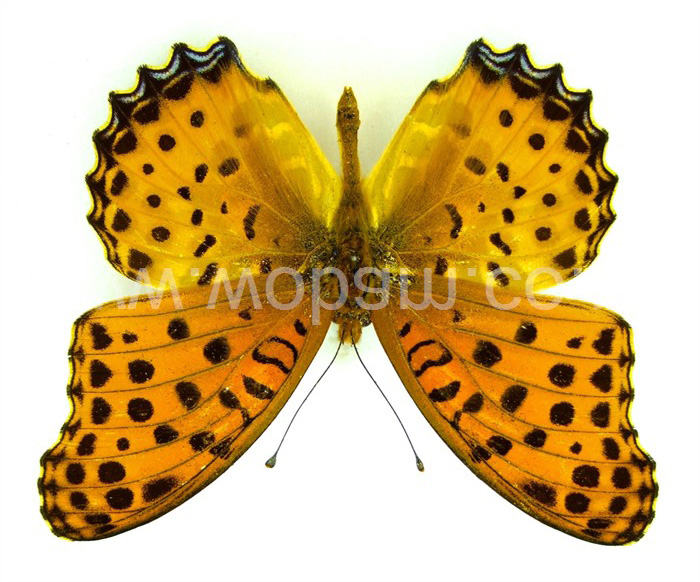Argyreus hyperbius: (30, 29, 657, 544)
butterfly: (32, 31, 659, 546)
